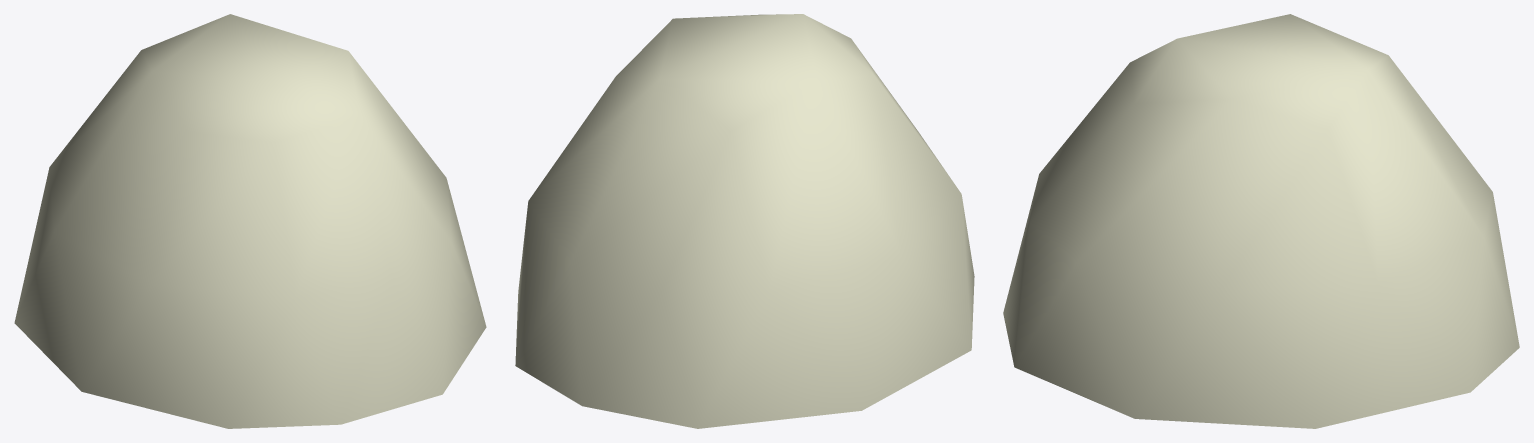
File: original-4.obj
3 renders of one model, left to right at view 1: azimuth 30°, elevation 25°; view 2: azimuth 150°, elevation 25°; view 3: azimuth 270°, elevation 25°, orthographic. The views are drawn at different scales.
Parts seen in each view (by area): view 1: mesh4/mesh4-geometry#mesh4-geometry; view 2: mesh4/mesh4-geometry#mesh4-geometry; view 3: mesh4/mesh4-geometry#mesh4-geometry.
Part boxes in pixels (left/top/right/bottom): mesh4/mesh4-geometry#mesh4-geometry: left=14, top=14, right=486, bottom=428; mesh4/mesh4-geometry#mesh4-geometry: left=515, top=14, right=974, bottom=428; mesh4/mesh4-geometry#mesh4-geometry: left=1003, top=14, right=1519, bottom=428.
Size of the model in its own units: 0.0582 by 0.039 by 0.0644.
